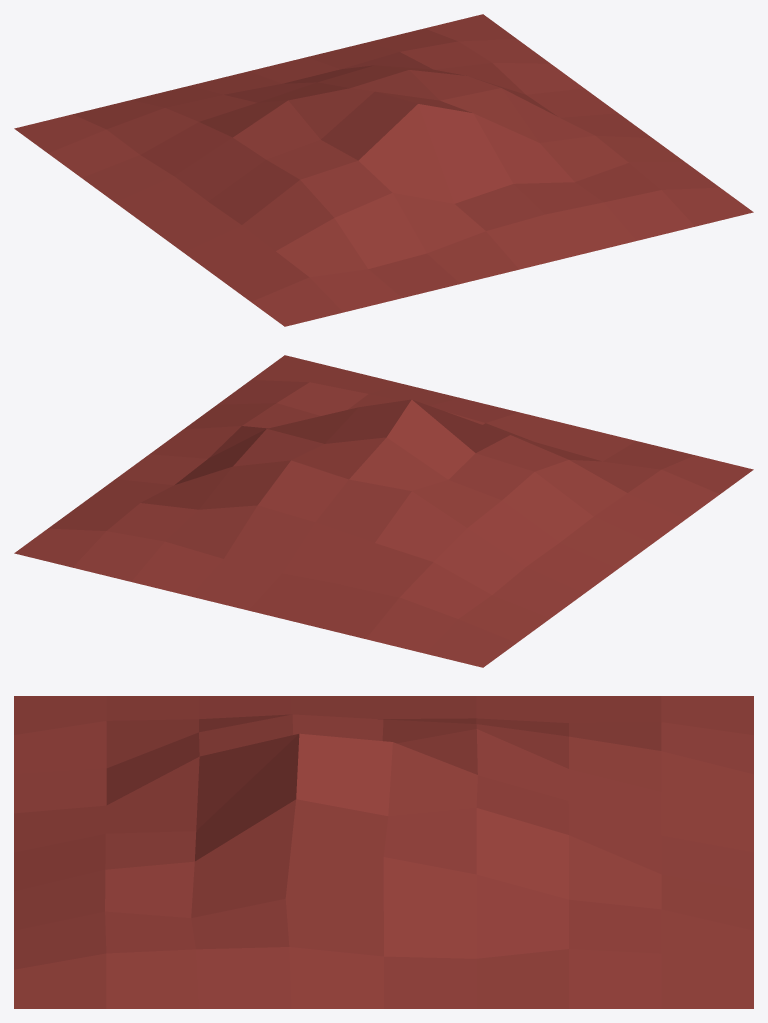
File: Terrain_10_Red.fbx
The picture shows the model from 3 angles, top to bottom: view 1: azimuth 30°, elevation 25°; view 2: azimuth 150°, elevation 25°; view 3: azimuth 270°, elevation 25°; orthographic projection. The views are drawn at different scales.
Parts seen in each view (by area): view 1: Terrain_10_Red; view 2: Terrain_10_Red; view 3: Terrain_10_Red.
Part boxes in pixels (x1,y1,x2,y2): Terrain_10_Red: (14,14,753,326); Terrain_10_Red: (14,355,753,667); Terrain_10_Red: (14,696,753,1008).
Bounding box in the file's own units: 5000 × 902 × 5000.
